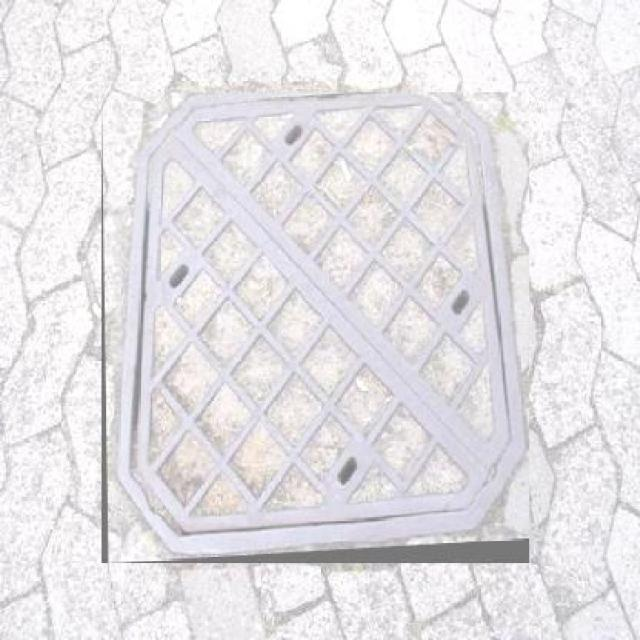Manhole: (102, 92, 530, 563)
